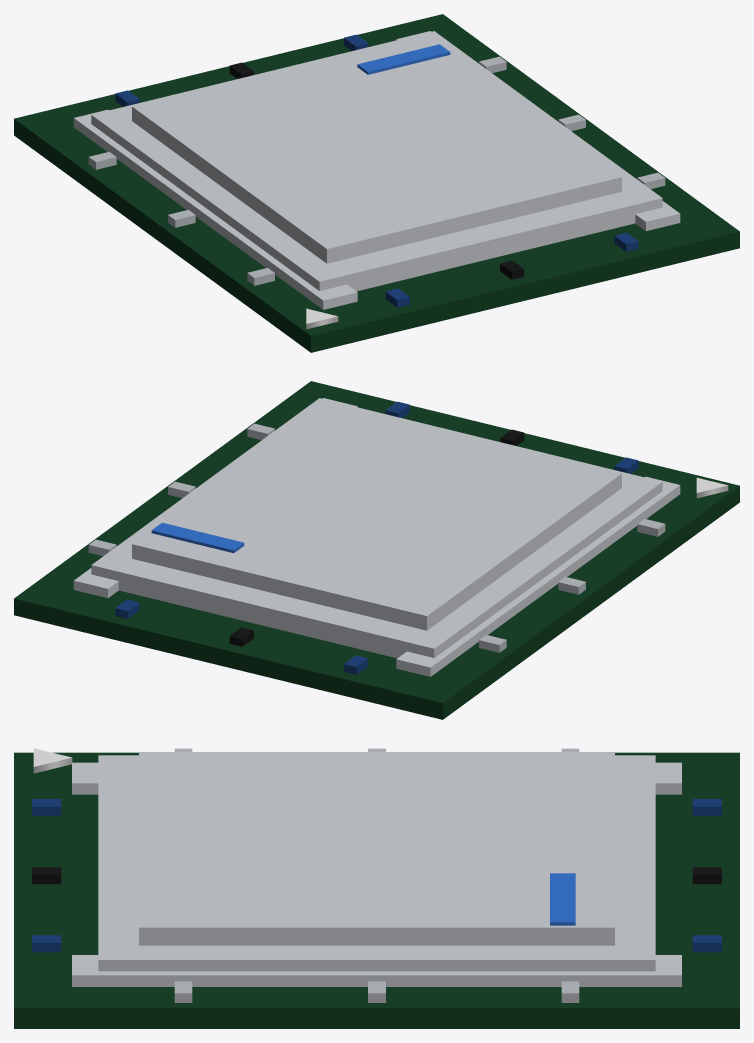
File: hw_cpu_i3_10100.glb
3 renders of one model, top to bottom at view 1: azimuth 30°, elevation 25°; view 2: azimuth 150°, elevation 25°; view 3: azimuth 270°, elevation 25°, orthographic. The views are drawn at different scales.
Parts seen in each view (by area): view 1: Body; view 2: Body; view 3: Body.
Part boxes in pixels (left/top/right/bottom): Body: left=14, top=14, right=739, bottom=352; Body: left=14, top=381, right=739, bottom=719; Body: left=14, top=748, right=739, bottom=1028.
Size of the model in its own units: 0.0375 by 0.00467 by 0.045.
